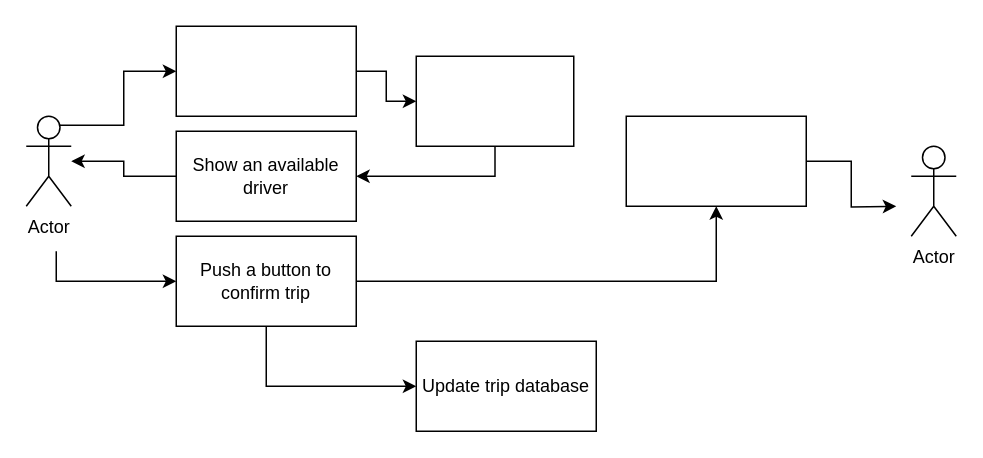
This 983x458 diagram has some shape labels left out. Each missing label, with the centre of its shape:
"Notify driver of a scheduled trip" goes at (x=715, y=160).
"Push a button to request a ride" goes at (x=265, y=70).
"Read driver database" goes at (x=494, y=100).
